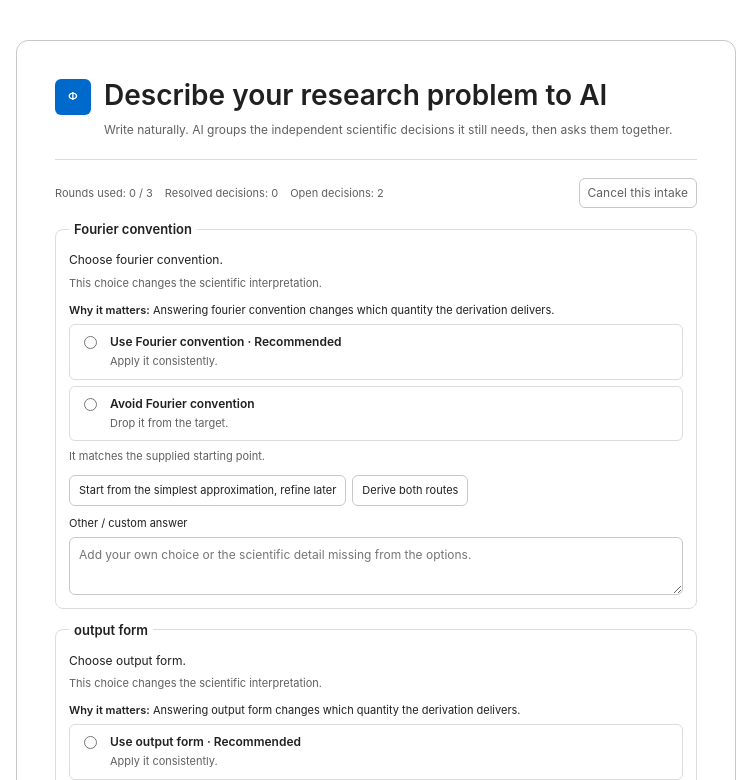
Test: persistent frontier-based Problem Intake › reports a round that stays refused next to the button the user pressed
The image size is (753, 780).
Click the radio button labelled "Use Fourier convention · Recommended Apply it consistently.": (90, 342) [84,336,97,349]
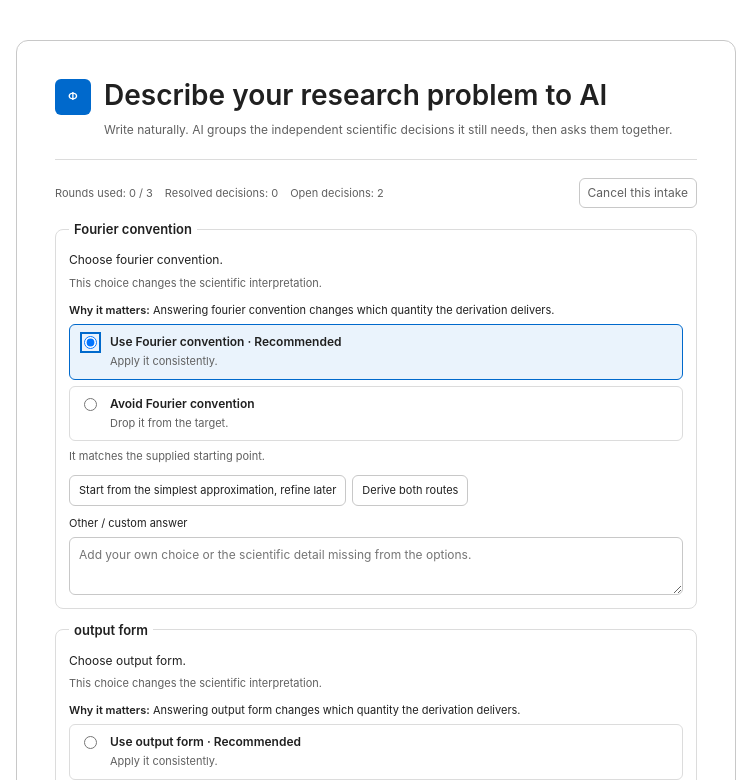
Click the radio button labelled "Use output form · Recommended Apply it consistently.": (90, 743) [84,736,97,749]
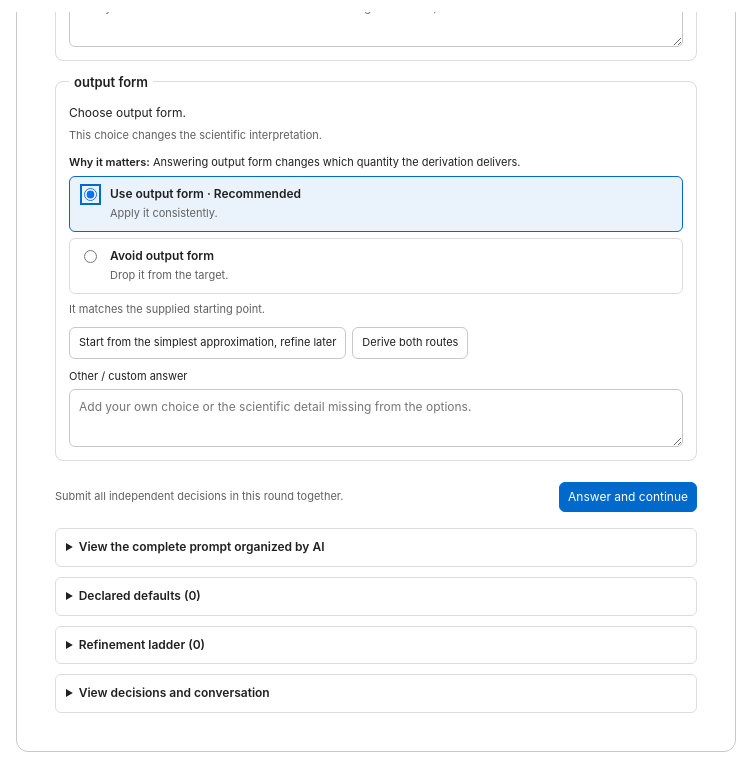
Click the button "Answer and continue": (628, 497) [559,482,697,512]
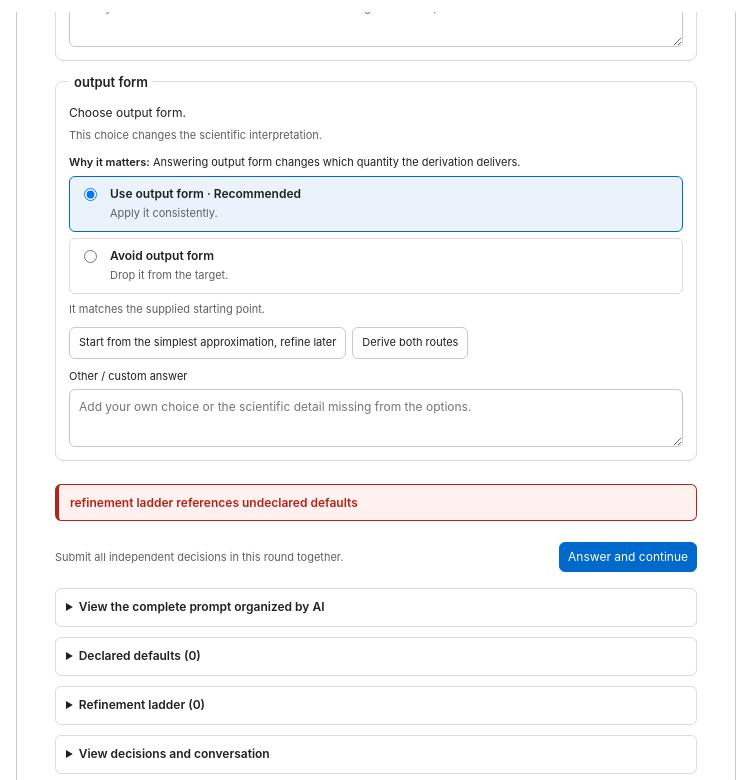
Expected: the message reads "refinement ladder references undeclared defaults", [70,495,358,510]
